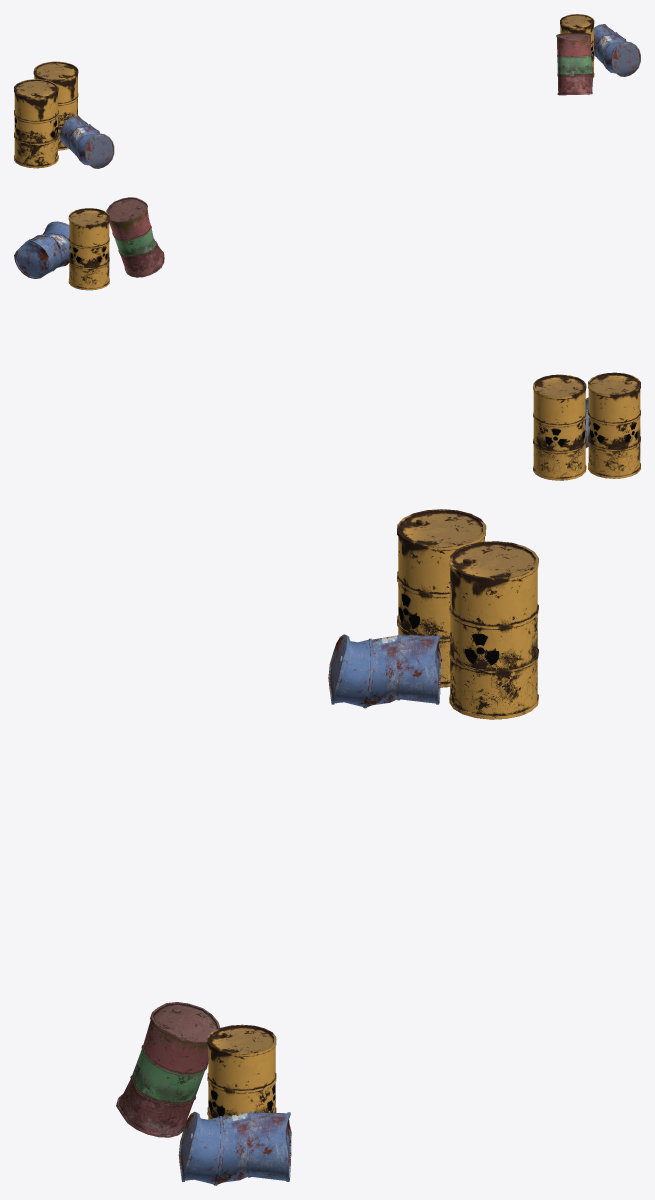
The model's file is barrels_01.fbx.
3 views of the same model, one above another, from view 1: azimuth 30°, elevation 25°; view 2: azimuth 150°, elevation 25°; view 3: azimuth 270°, elevation 25° (orthographic). The views are drawn at different scales.
Visible parts, largest first — view 1: Barrel_01__1_, Barrel_002, Barrel_003__1_, Barrel_01__2_, Barrel_003, Barrel_01; view 2: Barrel_01__2_, Barrel_01__1_, Barrel_01, Barrel_002, Barrel_003; view 3: Barrel_01__2_, Barrel_002, Barrel_01__1_, Barrel_003__1_, Barrel_003, Barrel_01.
Part boxes in pixels (bbox=[...]): Barrel_01__1_: bbox=[14, 79, 58, 168]; Barrel_002: bbox=[556, 33, 593, 95]; Barrel_003__1_: bbox=[59, 116, 114, 168]; Barrel_01__2_: bbox=[33, 61, 78, 150]; Barrel_003: bbox=[594, 24, 640, 76]; Barrel_01: bbox=[560, 14, 594, 77]; Barrel_01__2_: bbox=[533, 374, 586, 480]; Barrel_01__1_: bbox=[588, 372, 640, 478]; Barrel_01: bbox=[68, 208, 109, 290]; Barrel_002: bbox=[106, 197, 164, 277]; Barrel_003: bbox=[14, 221, 69, 278]; Barrel_01__2_: bbox=[449, 541, 538, 719]; Barrel_002: bbox=[116, 1002, 220, 1137]; Barrel_01__1_: bbox=[397, 509, 486, 687]; Barrel_003__1_: bbox=[328, 634, 440, 708]; Barrel_003: bbox=[178, 1111, 291, 1185]; Barrel_01: bbox=[207, 1024, 276, 1119].
Size of the model in its own units: 1141 by 139 by 372.
